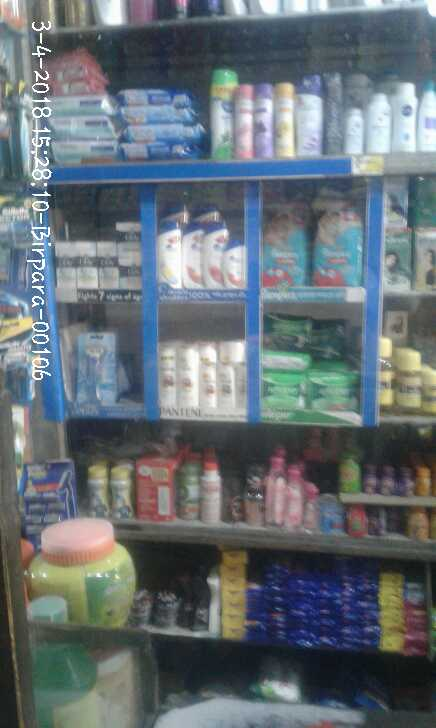gillete: (21, 461, 73, 532), (1, 88, 30, 177), (3, 196, 31, 286), (1, 317, 32, 362)
venus: (75, 331, 117, 405)
